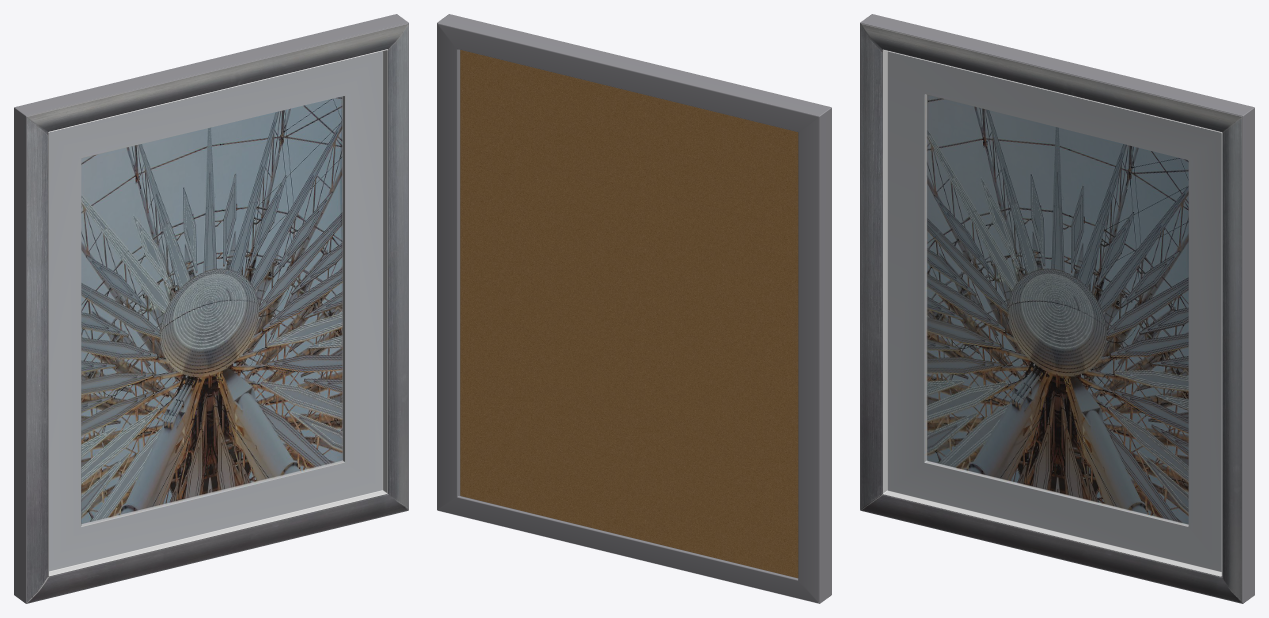
File: picture_frame_B073P1WWTQ.glb
The picture shows the model from 3 angles, left to right: view 1: azimuth 30°, elevation 25°; view 2: azimuth 150°, elevation 25°; view 3: azimuth 330°, elevation 25°; orthographic projection.
Visible parts, largest first — view 1: RootNode; view 2: RootNode; view 3: RootNode.
Boxes of the visible parts, x1=… form: RootNode: x1=14, y1=14, x2=408, y2=603; RootNode: x1=437, y1=14, x2=831, y2=603; RootNode: x1=860, y1=14, x2=1254, y2=603.
Size of the model in its own units: 0.4582 by 0.5578 by 0.0285.
Materials: 1 (1 with a texture image).
